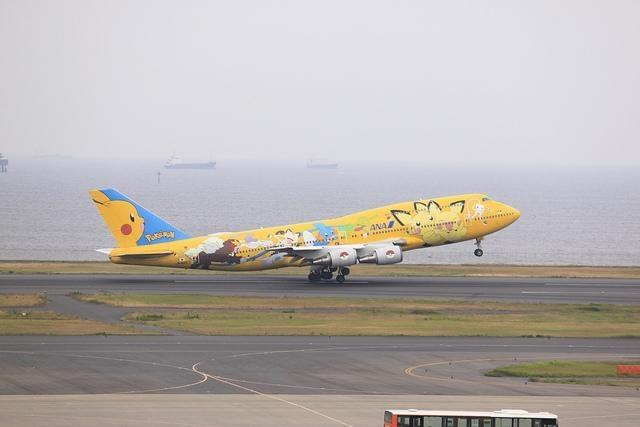bus: (382, 409, 558, 421)
